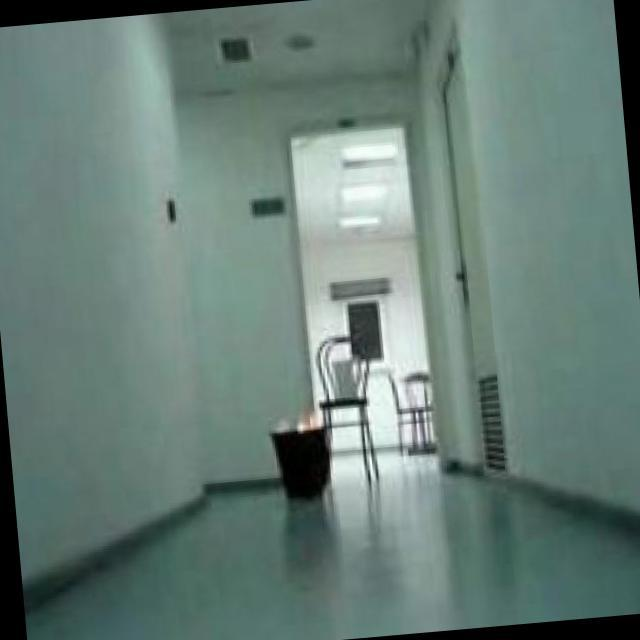Fire: (270, 411, 321, 432)
